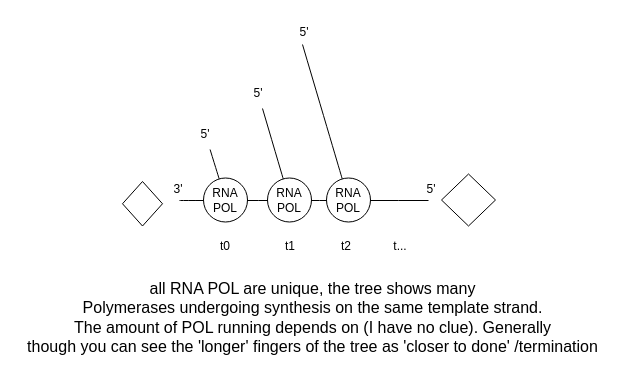
This 623x378 diagram has some shape labels left out. The centre of each missing label's shape, as x and y in pixels:
"prom" goes at point 142,203.
"term" goes at point 468,199.
